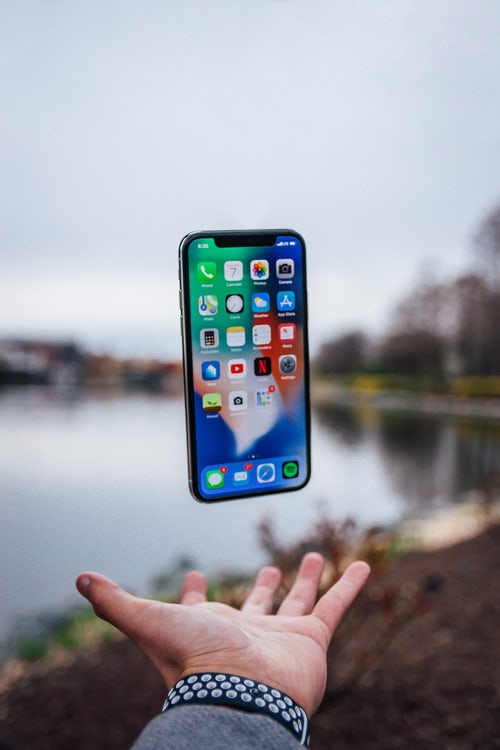phone: (174, 225, 321, 505)
